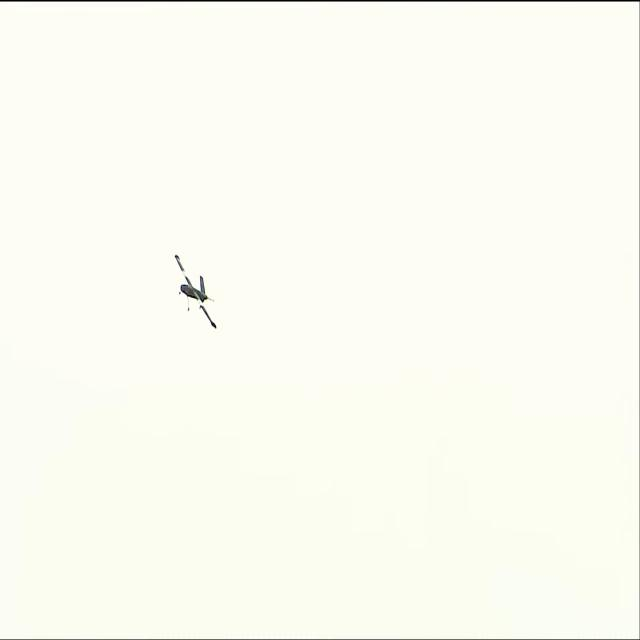iha: (174, 284, 218, 300)
